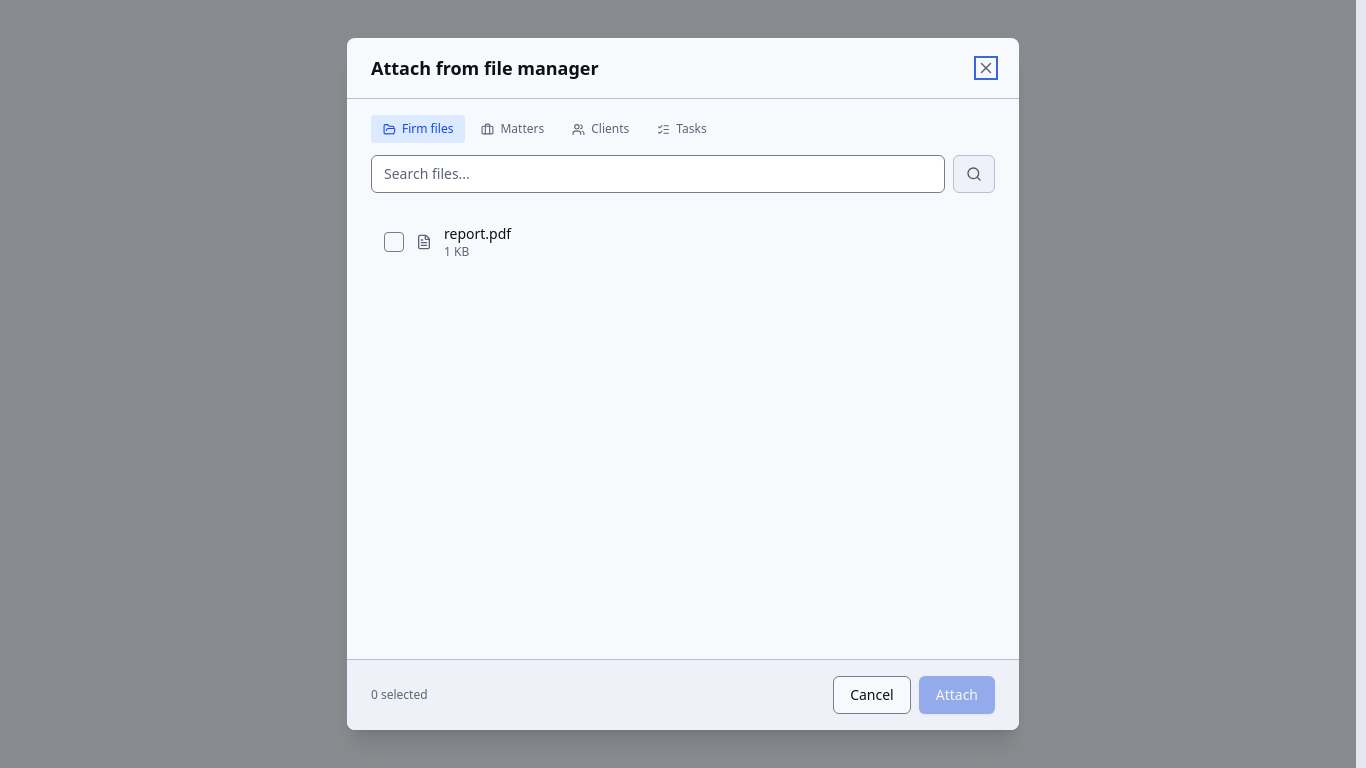
Test case: MessageFilePicker source lists › shows no note when the lookup returned the complete list
The width and height of the screenshot is (1366, 768).
What coordinates should you click on to do the following:
click the button "Matters"
I would click on:
 (513, 129)
Its box is [470,115,556,143].
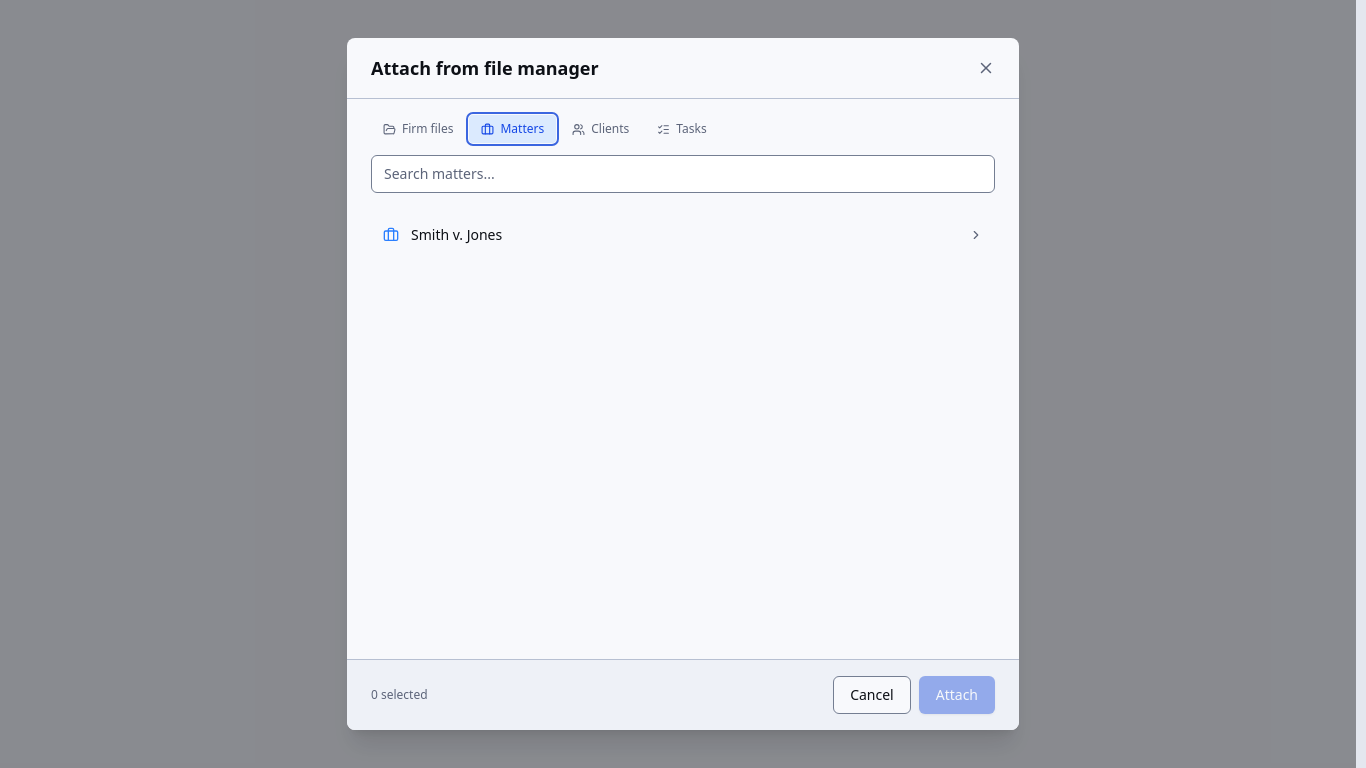
Expected: the text "Smith v. Jones" is shown, [411,225,502,244]
